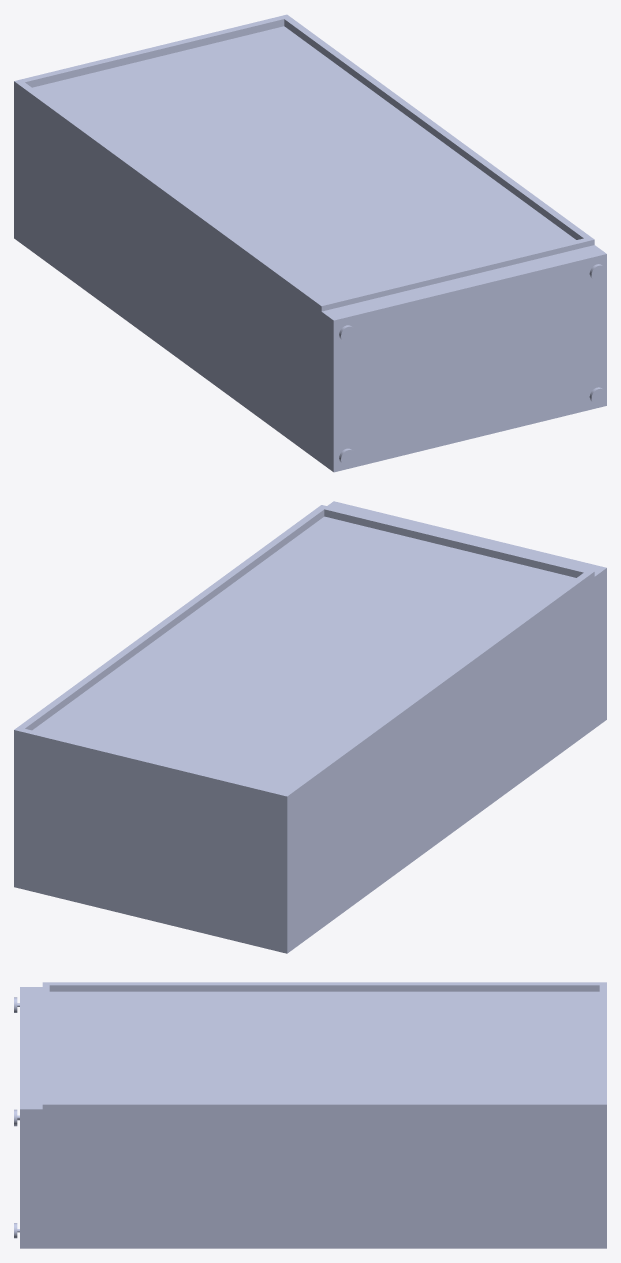
The model's file is Tall cabinet - 40in._y.fbx.
3 views of the same model, one above another, from view 1: azimuth 30°, elevation 25°; view 2: azimuth 150°, elevation 25°; view 3: azimuth 270°, elevation 25° (orthographic). The views are drawn at different scales.
Visible parts, largest first — view 1: Body_1; view 2: Body_1; view 3: Body_1.
Part boxes in pixels (x1=…): Body_1: x1=14, y1=14, x2=606, y2=472; Body_1: x1=14, y1=501, x2=606, y2=953; Body_1: x1=14, y1=982, x2=606, y2=1248.
Size of the model in its own units: 1.02 by 2.08 by 0.5588.
